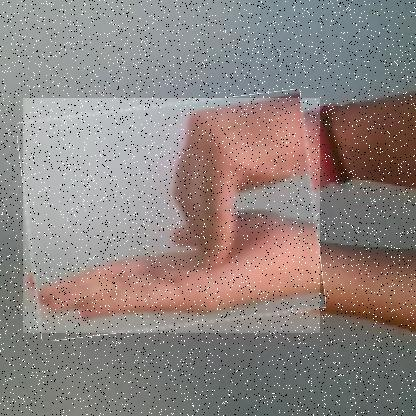Z: (22, 98, 320, 334)
